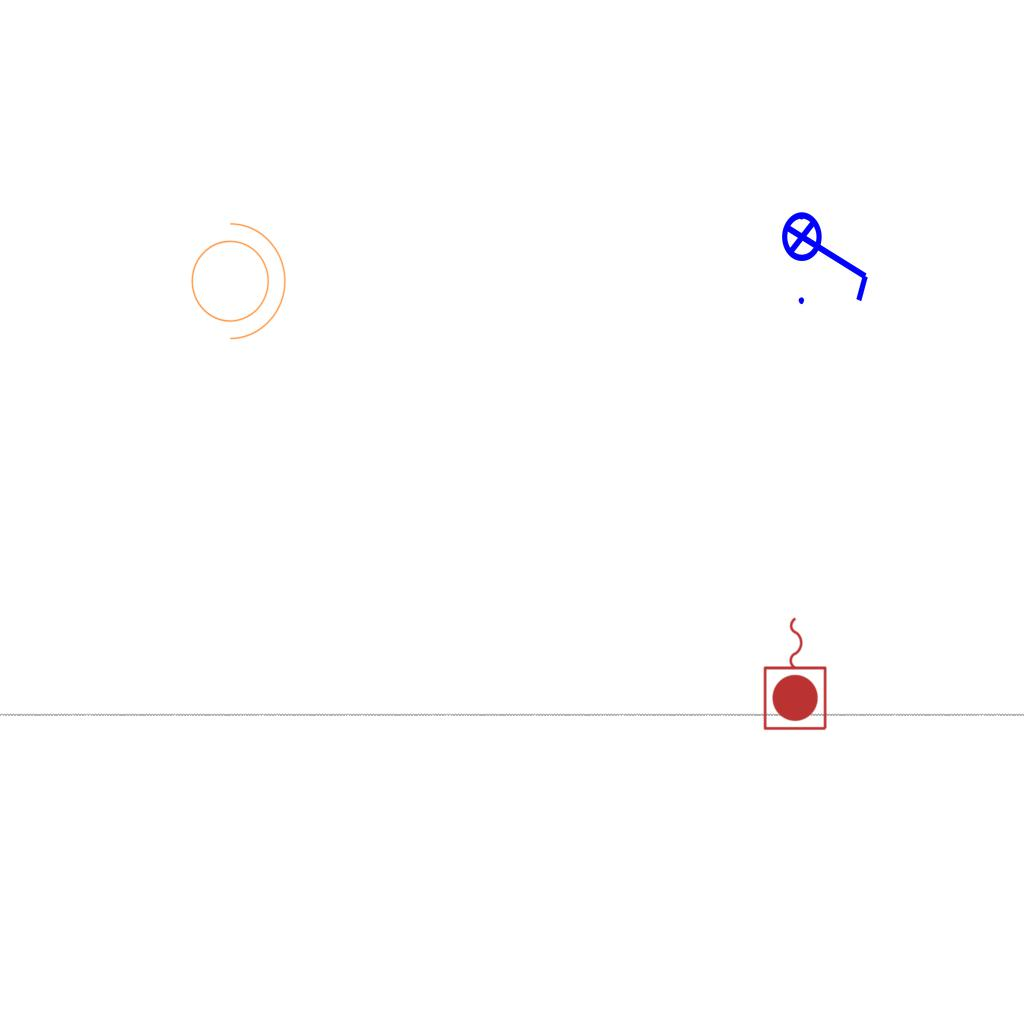Ausschalter_beleuchtet: (780, 198, 876, 310)
Scheinwerfer_fuer_Alarmbeleuchtung: (179, 212, 291, 344)
Zugtaster: (760, 612, 832, 734)
